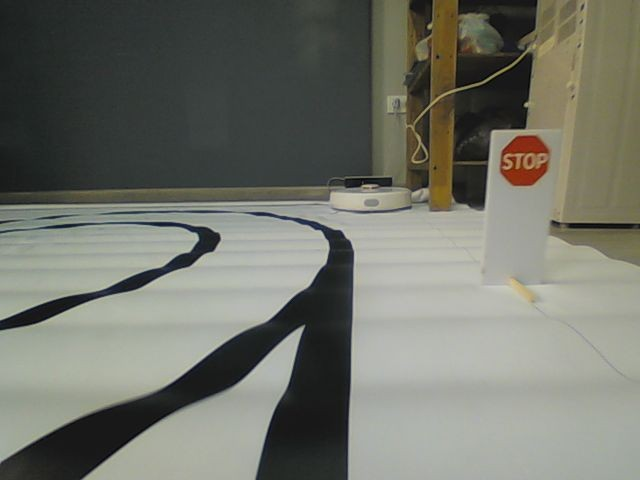Stop: (498, 134, 551, 187)
